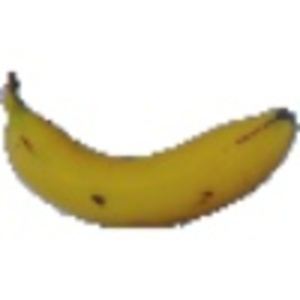banana: (2, 66, 298, 234)
